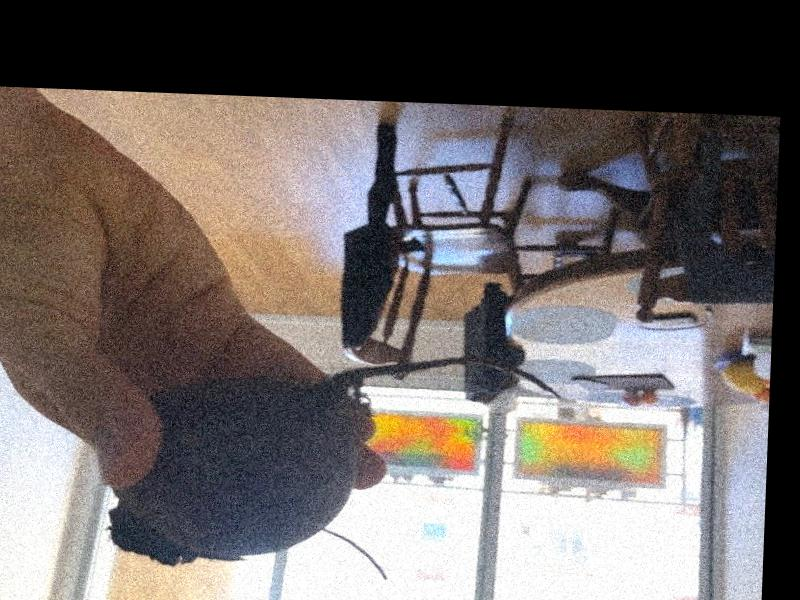Beet: (107, 344, 562, 583)
